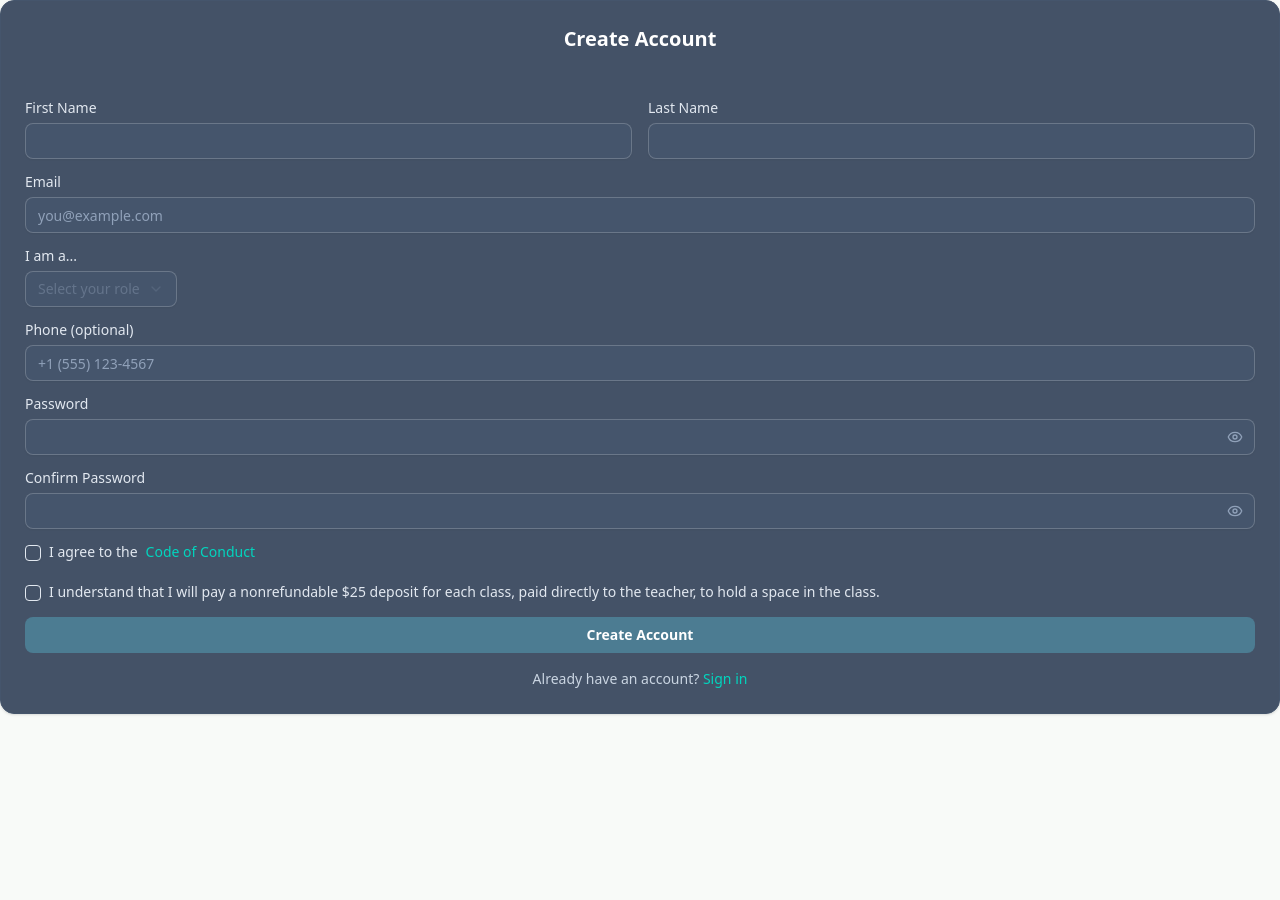
Test case: RegisterForm › removes role validation error immediately after selection
Click the button "Create Account" at (640, 635), box [25, 617, 1255, 653]
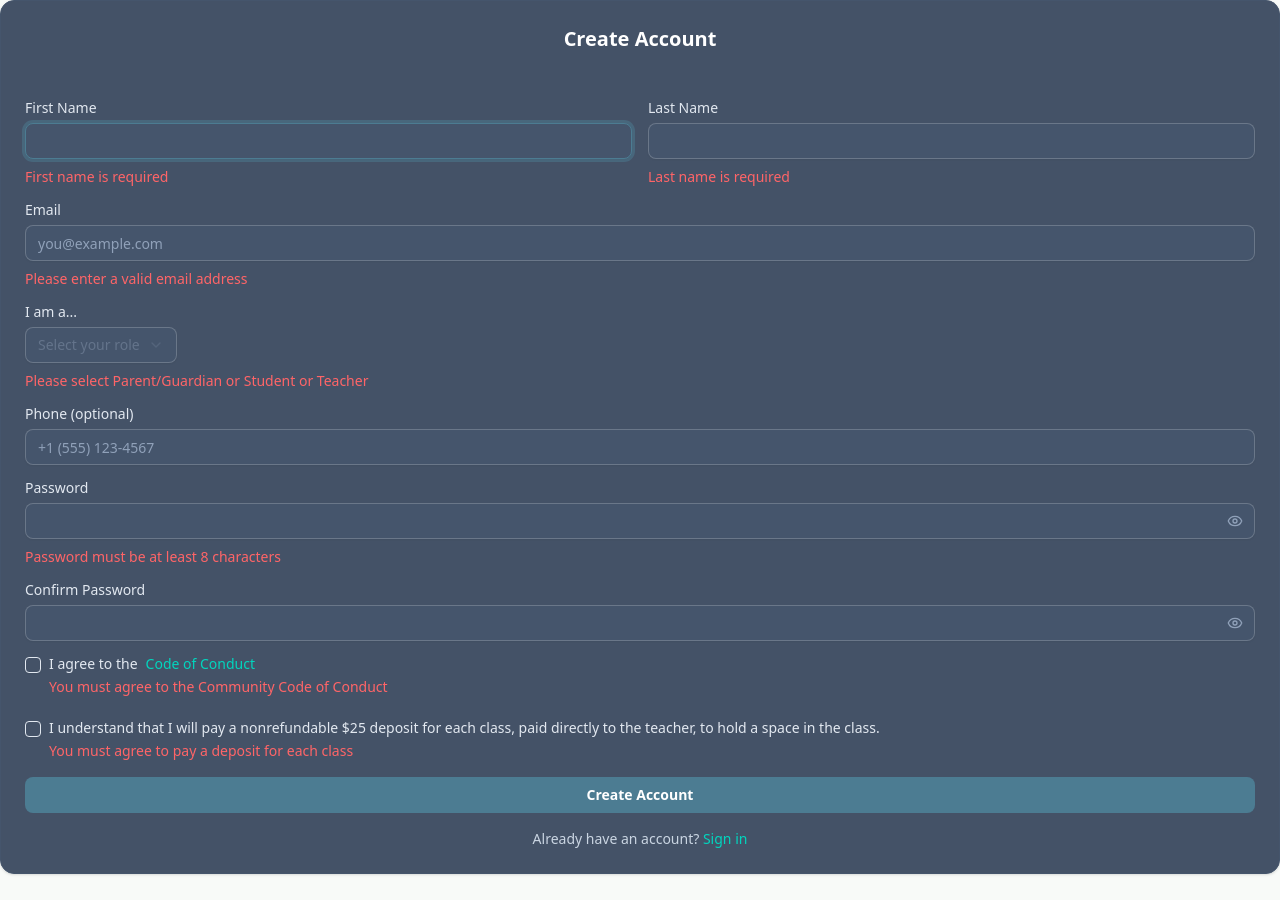
Expected: the text "Please select Parent/Guardian or Student or Teacher" is shown, [25, 371, 368, 390]
Select a role
Click the dropdown with test id "role-select-trigger" at (101, 345), box [25, 327, 177, 363]
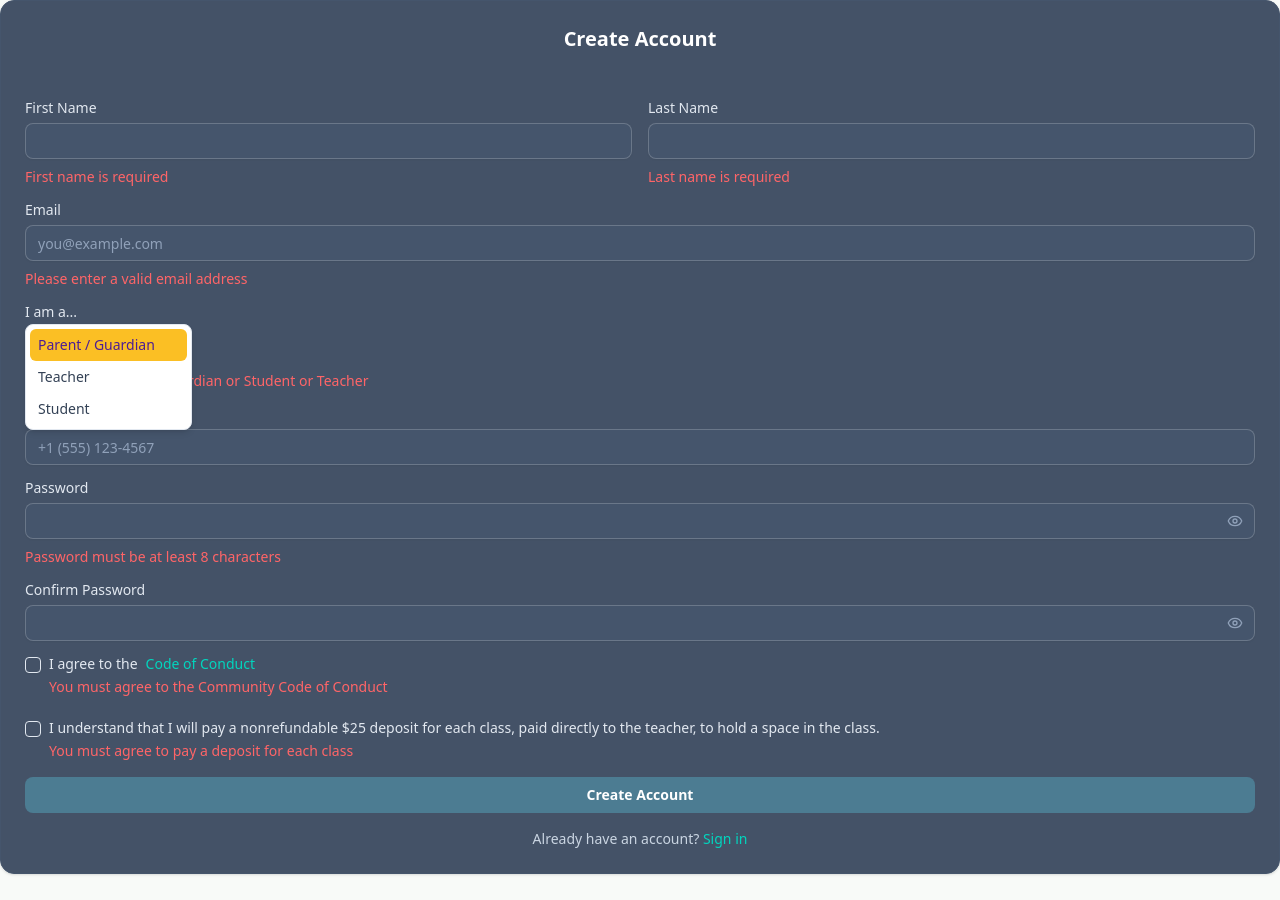
Wait for the option to be visible
Click the option with test id "role-option-parent" at (108, 345), box [30, 329, 187, 361]
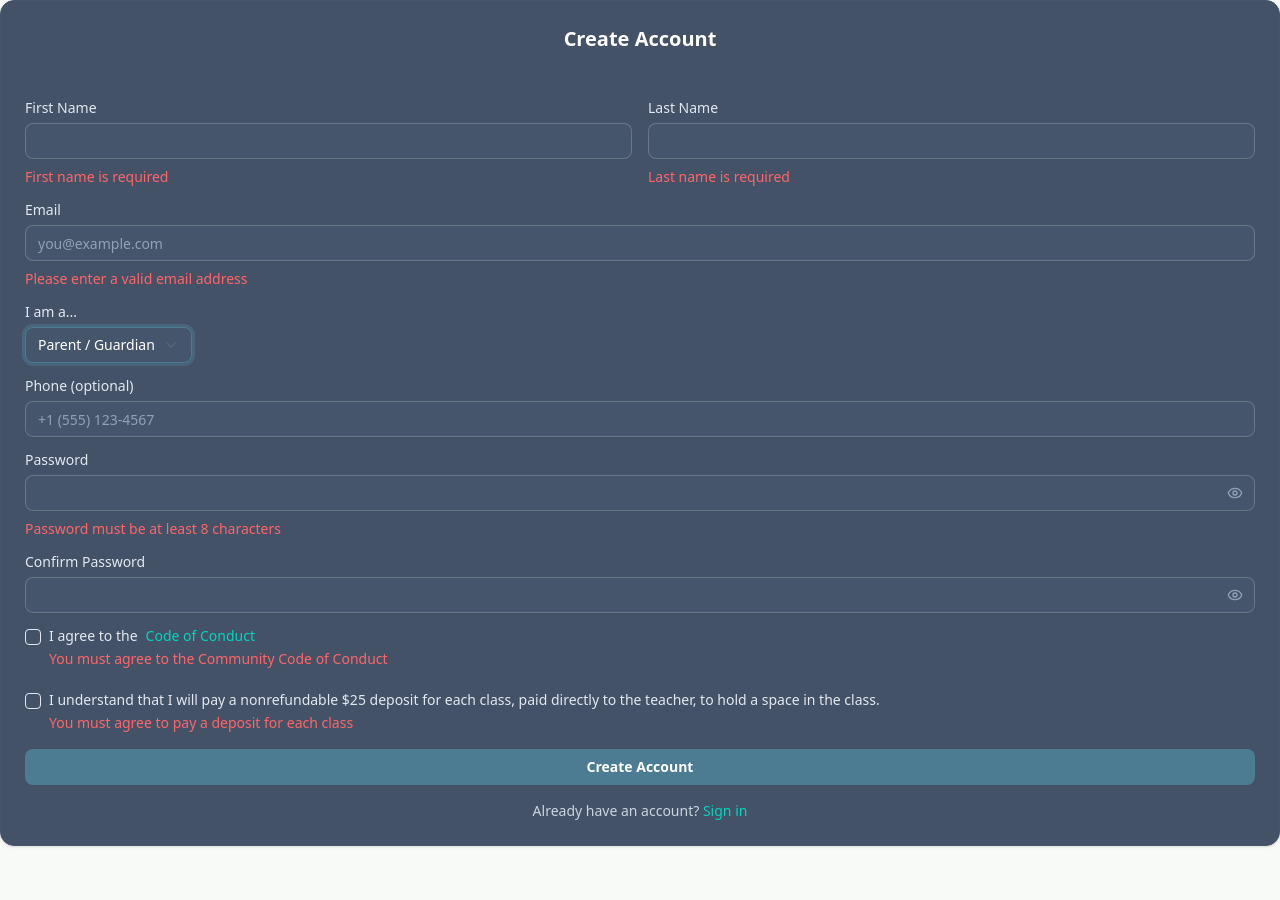
Expected: the text "Please select Parent/Guardian or Student or Teacher" is gone
